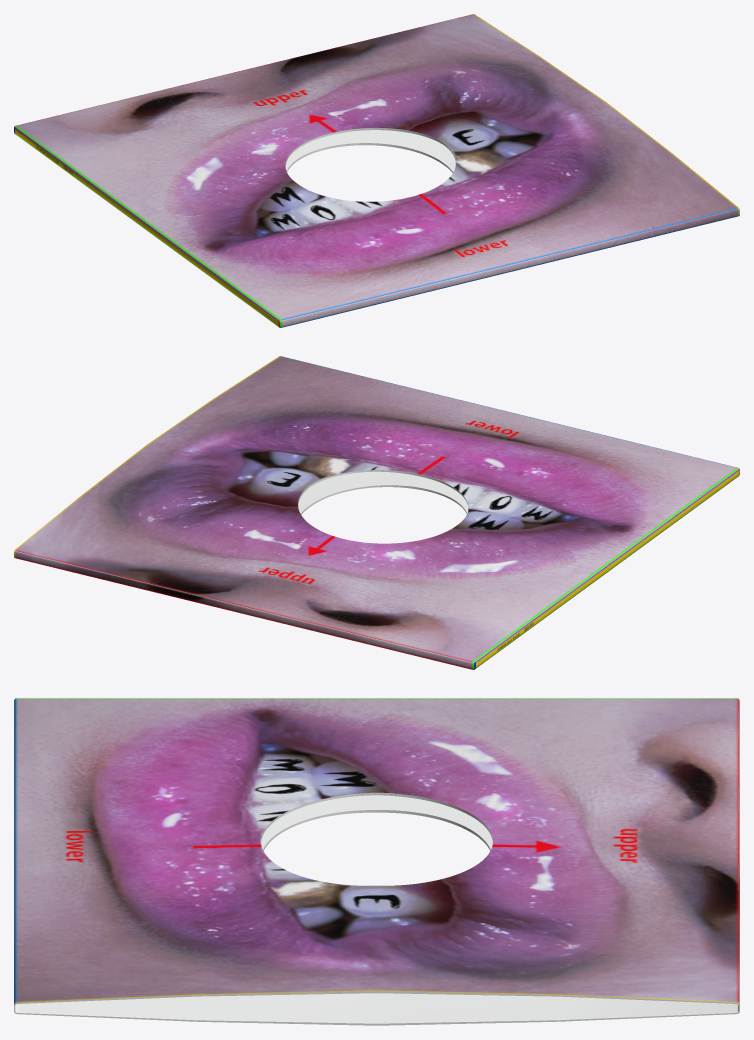
The model's file is sleeve_12_double_holed.dae.
3 views of the same model, one above another, from view 1: azimuth 30°, elevation 25°; view 2: azimuth 150°, elevation 25°; view 3: azimuth 270°, elevation 25° (orthographic). The views are drawn at different scales.
Visible parts, largest first — view 1: sleeve; view 2: sleeve; view 3: sleeve.
Boxes of the visible parts, x1,y1,x2,y2 form: sleeve: [14, 14, 739, 327]; sleeve: [14, 356, 739, 669]; sleeve: [14, 698, 739, 1025].
Bounding box in the file's own units: 31.18 × 1.65 × 31.3.
Materials: 1 (1 with a texture image).
